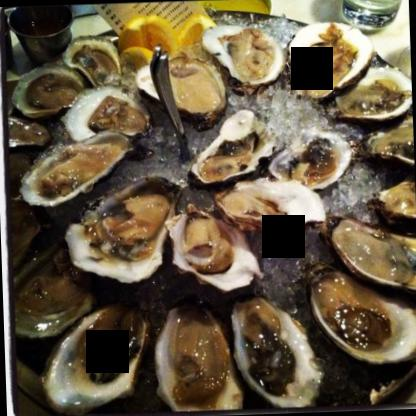oyster: (58, 175, 182, 295), (46, 302, 148, 412), (153, 297, 243, 415), (232, 298, 324, 409), (16, 125, 134, 209), (313, 270, 415, 357), (164, 199, 254, 294), (294, 20, 376, 99), (334, 208, 415, 287), (64, 80, 148, 155), (198, 19, 286, 85), (187, 124, 271, 189), (140, 54, 218, 108)
